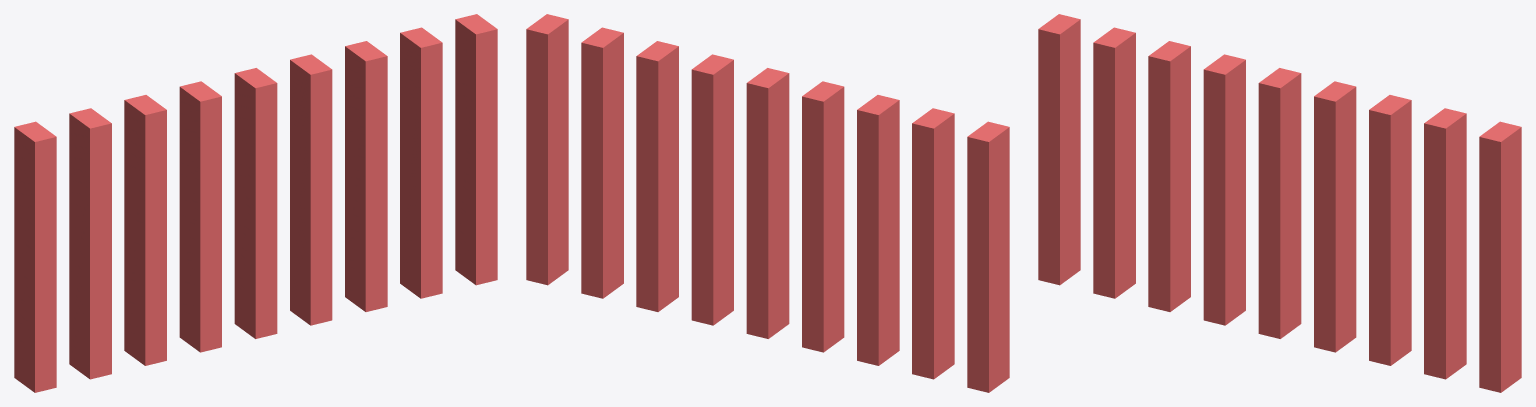
The model's file is Partitions_101.glb.
3 renders of one model, left to right at view 1: azimuth 30°, elevation 25°; view 2: azimuth 150°, elevation 25°; view 3: azimuth 330°, elevation 25°, orthographic.
Parts seen in each view (by area): view 1: Partitions_101; view 2: Partitions_101; view 3: Partitions_101.
Boxes of the visible parts, bbox=[...] form: Partitions_101: bbox=[14, 14, 497, 392]; Partitions_101: bbox=[526, 14, 1009, 392]; Partitions_101: bbox=[1038, 14, 1521, 392].
Bounding box in the file's own units: 1.93 × 1 × 0.15.
Materials: 1 (1 with a texture image).
